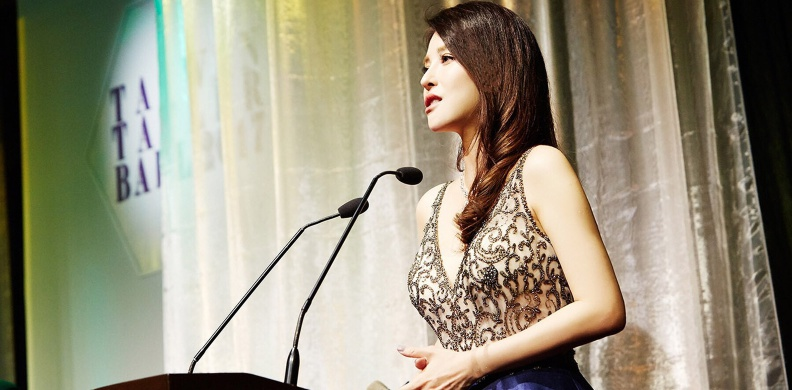female: (396, 3, 580, 176)
